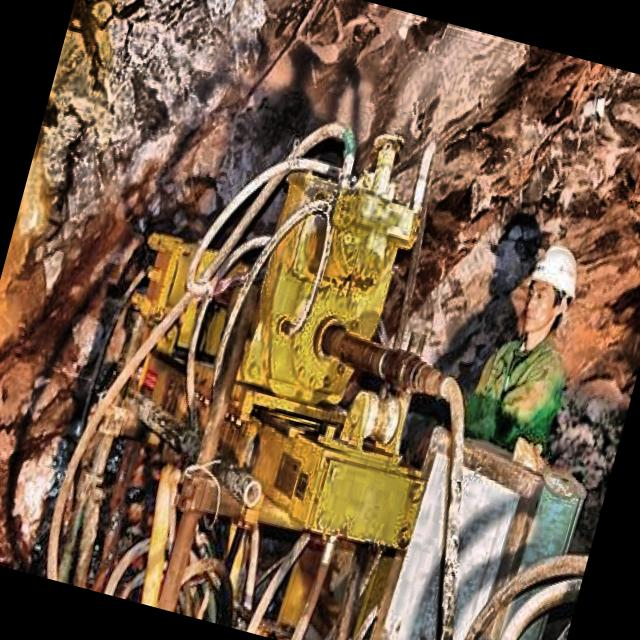helmet: (506, 235, 590, 352)
